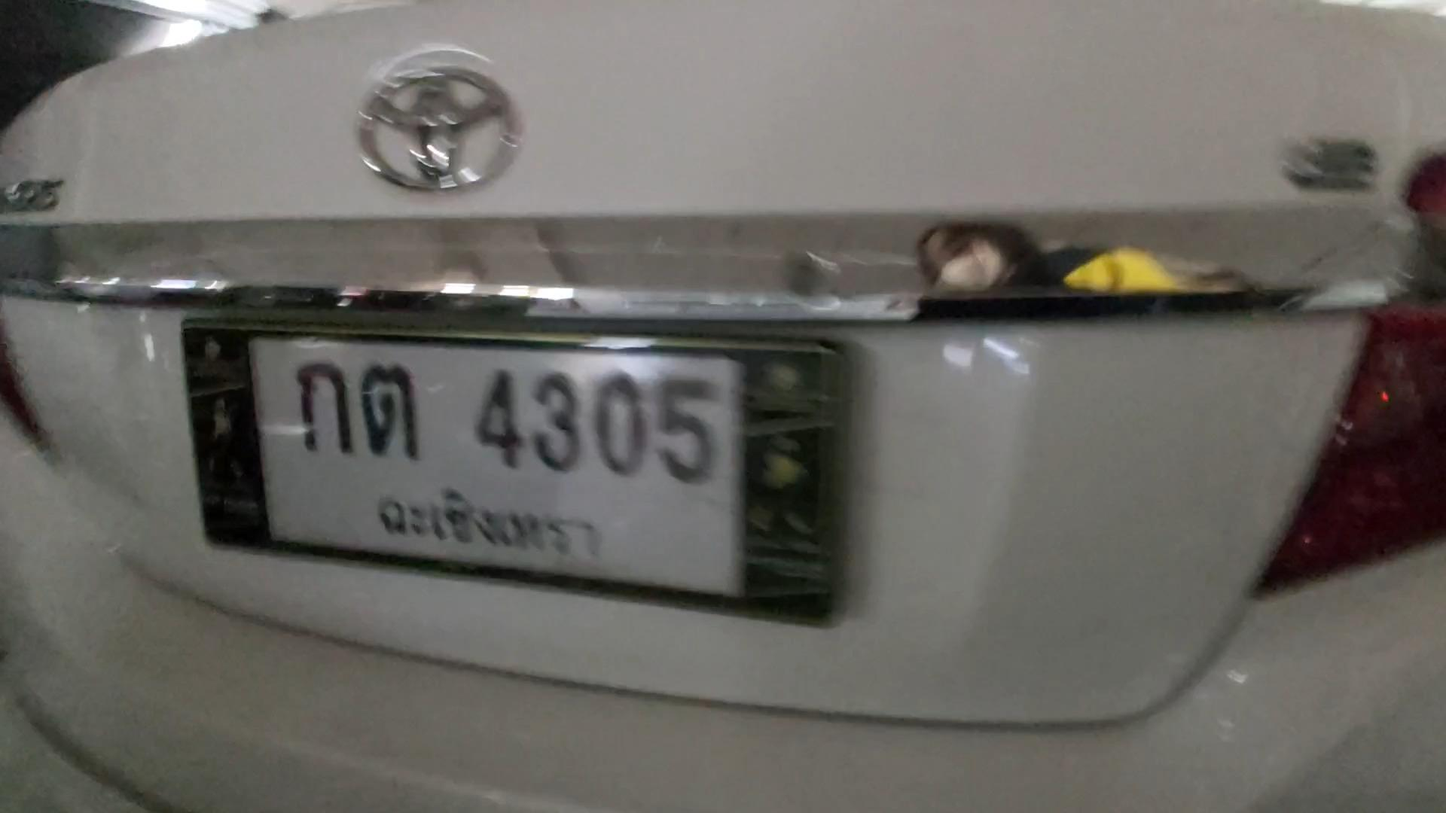license-plate: (247, 338, 746, 598)
